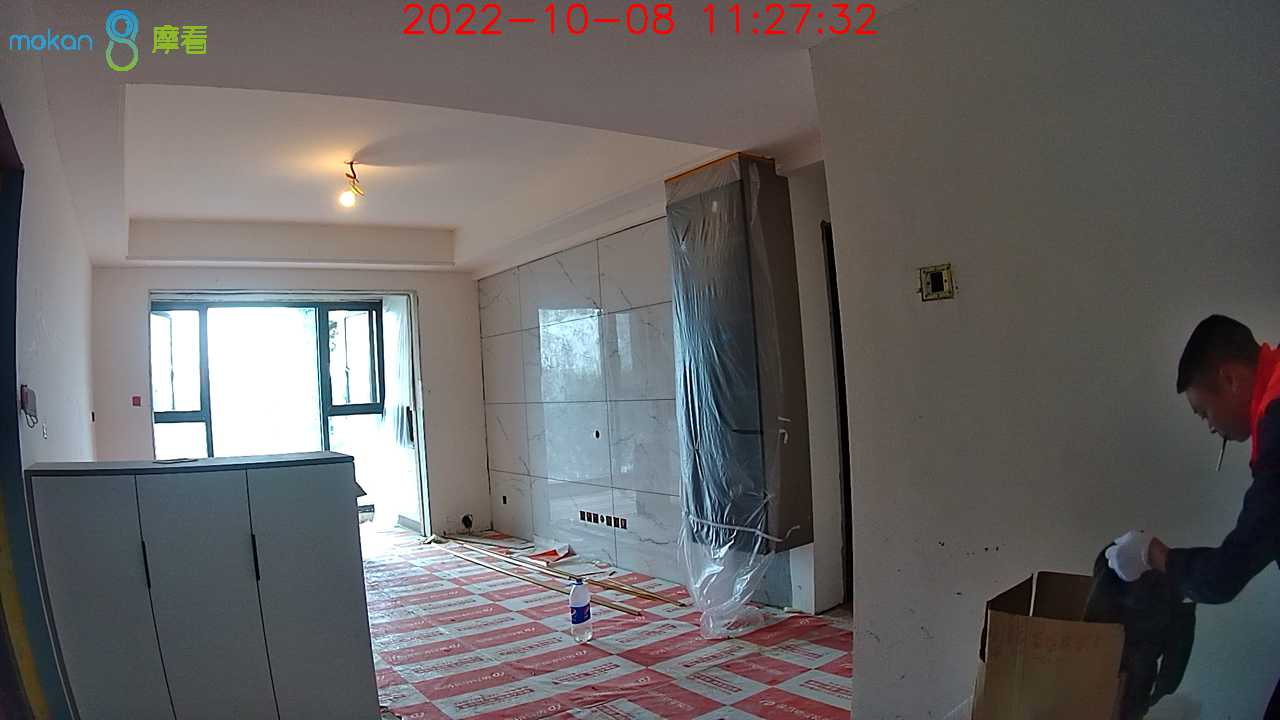people: (1106, 314, 1280, 719)
window: (150, 300, 388, 513)
